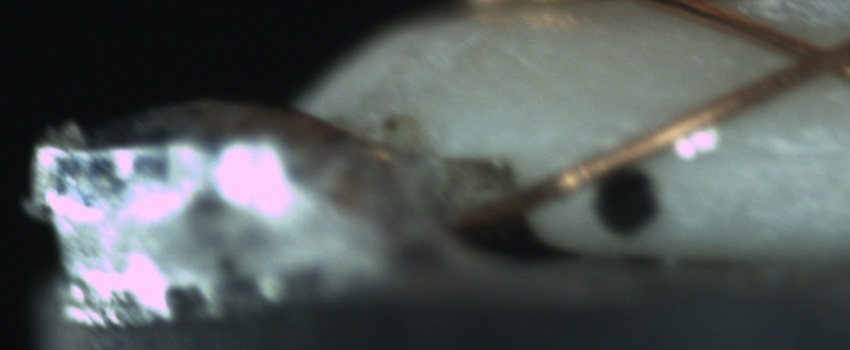CL: (769, 27, 845, 89)
DL: (695, 122, 849, 183)
